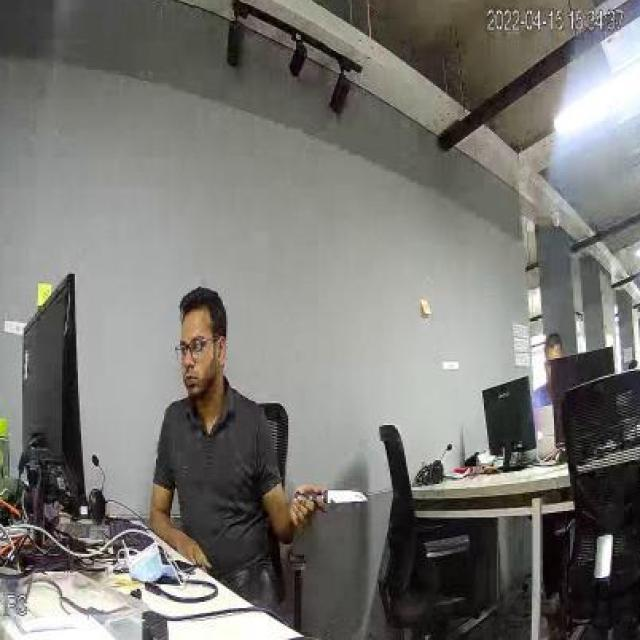Knife: (290, 476, 380, 532)
